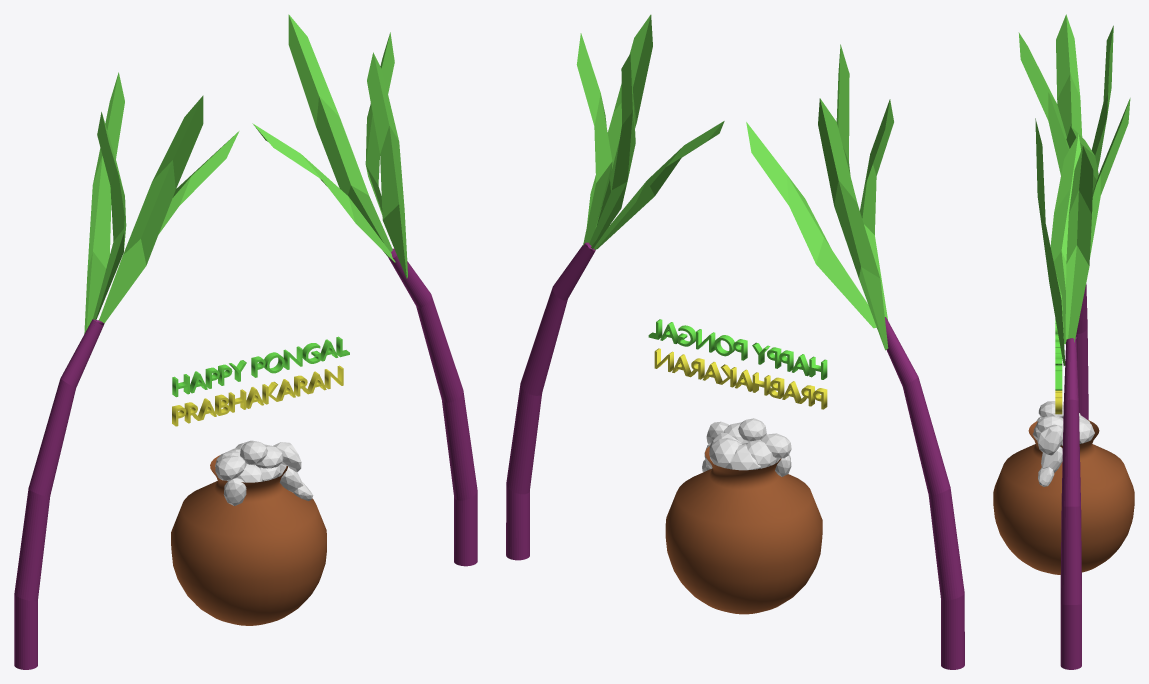
The model's file is pongalWishes.glb.
3 renders of one model, left to right at view 1: azimuth 30°, elevation 25°; view 2: azimuth 150°, elevation 25°; view 3: azimuth 270°, elevation 25°, orthographic. The views are drawn at different scales.
Visible parts, largest first — view 1: Sphere, Plane.001, Plane, Cylinder.001, Cylinder, Icosphere, Text.001, Text; view 2: Sphere, Plane.001, Plane, Cylinder.001, Cylinder, Icosphere, Text.001, Text; view 3: Sphere, Plane, Cylinder, Plane.001, Icosphere, Cylinder.001, Text.
Part boxes in pixels (x1,y1,x2,y2): Sphere: (171,455,326,625); Plane.001: (84,72,239,333); Plane: (252,14,407,278); Cylinder.001: (14,319,104,669); Cylinder: (388,248,477,566); Icosphere: (215,440,313,505); Text.001: (172,365,343,426); Text: (172,336,349,397); Sphere: (665,446,822,614); Plane.001: (746,44,893,350); Plane: (576,14,724,250); Cylinder.001: (885,317,964,669); Cylinder: (506,242,595,560); Icosphere: (702,418,791,476); Text.001: (654,348,827,409); Text: (648,319,827,379); Sphere: (993,420,1134,574); Plane: (1035,98,1130,365); Cylinder: (1060,337,1081,669); Plane.001: (1018,14,1113,192); Icosphere: (1032,401,1094,486); Cylinder.001: (1076,284,1088,419); Text: (1055,319,1062,390).
Bounding box in the file's own units: 1.32 × 1.55 × 0.3915.
